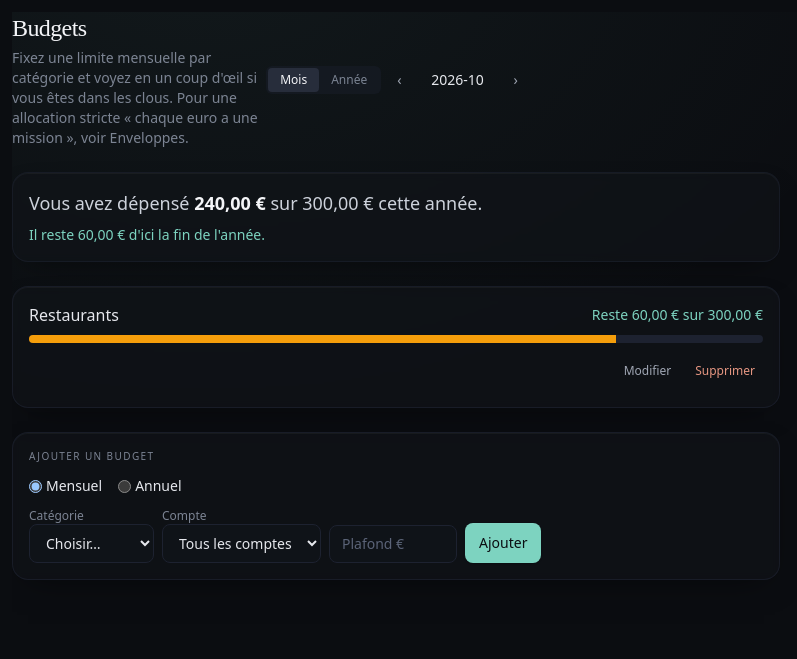
Budgets page › shows an inline error banner when deleting a budget fails
Click the button "Supprimer" at (725, 371), box [687,351,763,391]
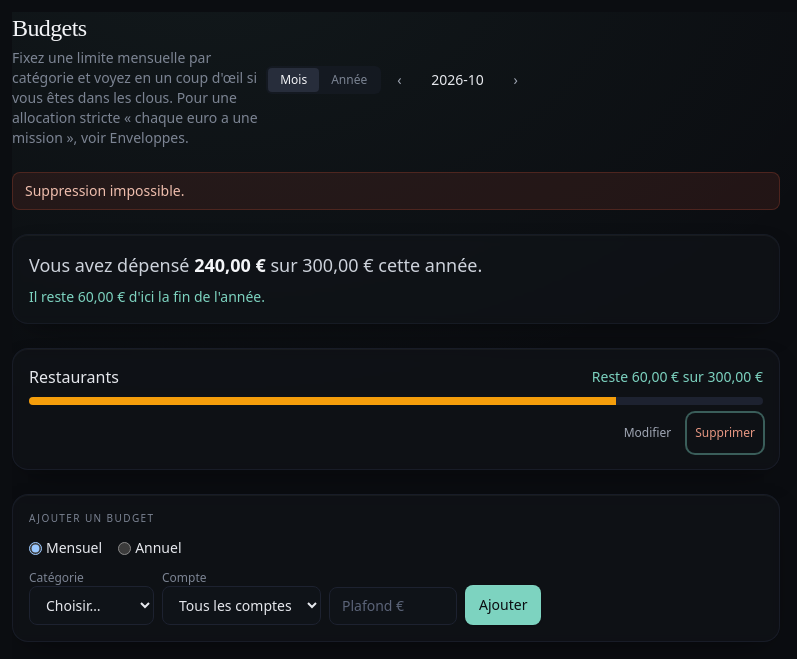
Result: the text "Suppression impossible." is shown at [12,172,780,210]
